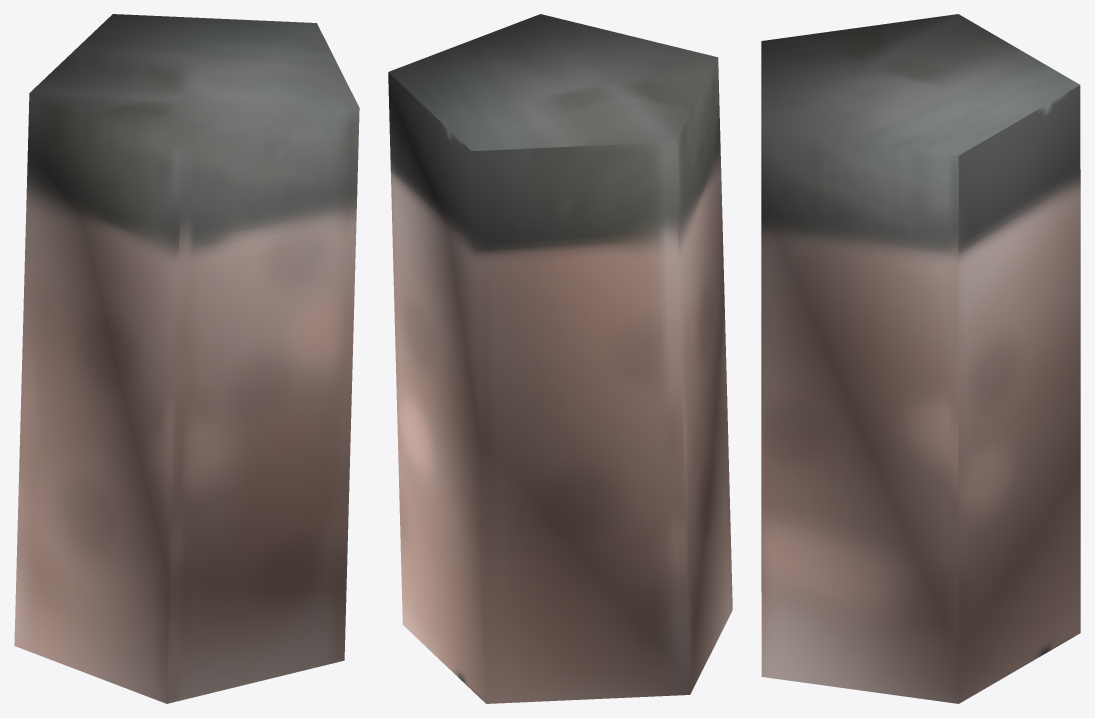
The model's file is SaltShaker.glb.
The picture shows the model from 3 angles, left to right: view 1: azimuth 30°, elevation 25°; view 2: azimuth 150°, elevation 25°; view 3: azimuth 270°, elevation 25°; orthographic projection.
Parts seen in each view (by area): view 1: Salt_shaker.008; view 2: Salt_shaker.008; view 3: Salt_shaker.008.
Part boxes in pixels (left/top/right/bottom): Salt_shaker.008: left=14, top=14, right=359, bottom=703; Salt_shaker.008: left=388, top=14, right=732, bottom=703; Salt_shaker.008: left=761, top=14, right=1080, bottom=703.
Bounding box in the file's own units: 0.0777 × 0.135 × 0.0704.
Materials: 1 (1 with a texture image).
